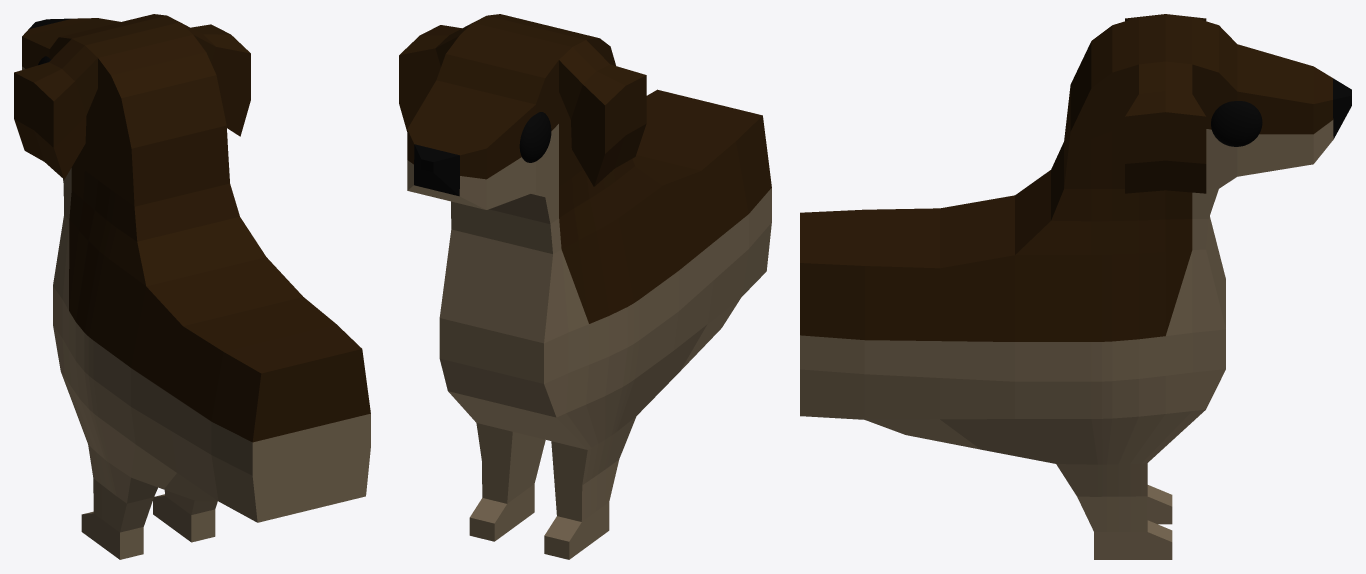
File: WeinerFront.glb
3 views of the same model, side by side, from view 1: azimuth 30°, elevation 25°; view 2: azimuth 150°, elevation 25°; view 3: azimuth 270°, elevation 25° (orthographic). The views are drawn at different scales.
Visible parts, largest first — view 1: WeinerFront; view 2: WeinerFront; view 3: WeinerFront.
Boxes of the visible parts, <box> form: WeinerFront: <box>14,14,370,559</box>; WeinerFront: <box>399,14,771,559</box>; WeinerFront: <box>800,14,1351,559</box>.
Size of the model in its own units: 0.7085 by 1.68 by 1.68.
